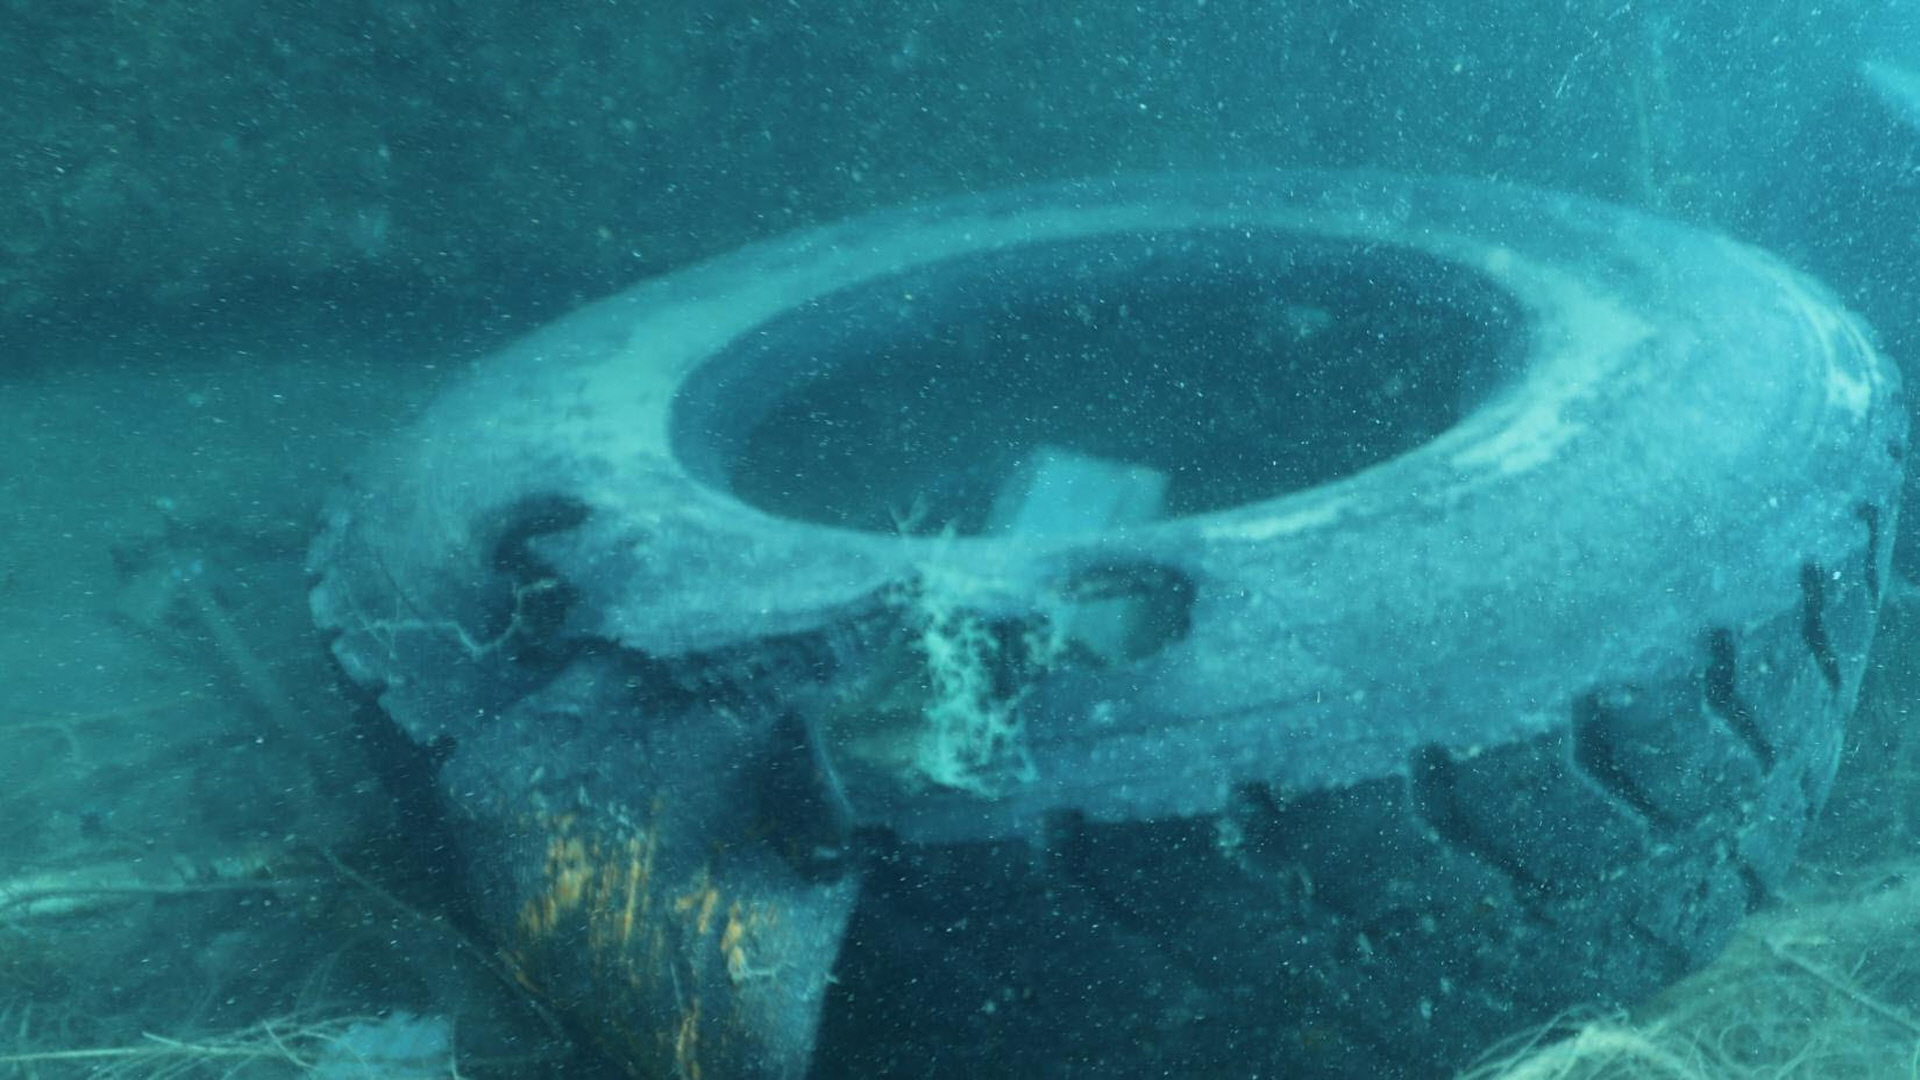tire: (305, 169, 1908, 1080)
